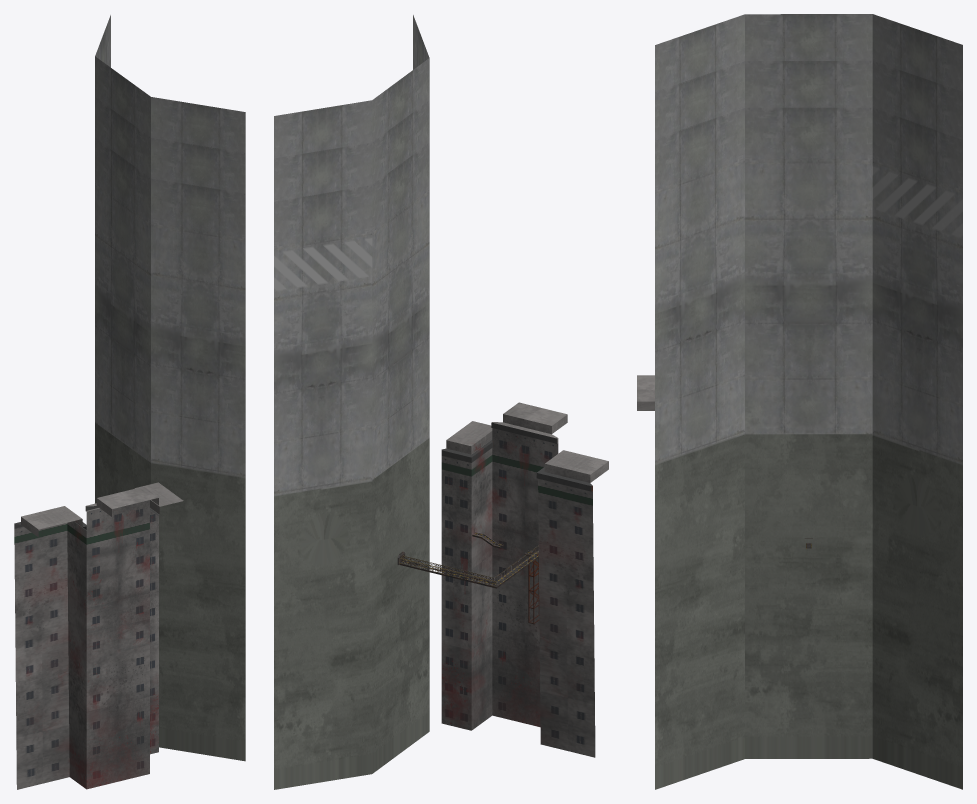
3 views of the same model, side by side, from view 1: azimuth 30°, elevation 25°; view 2: azimuth 150°, elevation 25°; view 3: azimuth 270°, elevation 25° (orthographic). The views are drawn at different scales.
Visible parts, largest first — view 1: 2S_P_Wall005, 2S_2_Hospital; view 2: 2S_P_Wall005, 2S_2_Hospital, 2S_2_Bridge_011; view 3: 2S_P_Wall005, 2S_2_Hospital.
Part boxes in pixels (<box>): 2S_P_Wall005: <box>95,15,245,761</box>; 2S_2_Hospital: <box>14,482,183,789</box>; 2S_P_Wall005: <box>274,15,429,789</box>; 2S_2_Hospital: <box>441,402,608,757</box>; 2S_2_Bridge_011: <box>400,546,538,586</box>; 2S_P_Wall005: <box>655,14,962,789</box>; 2S_2_Hospital: <box>637,375,654,410</box>.
Size of the model in its own units: 239 by 733 by 291.
